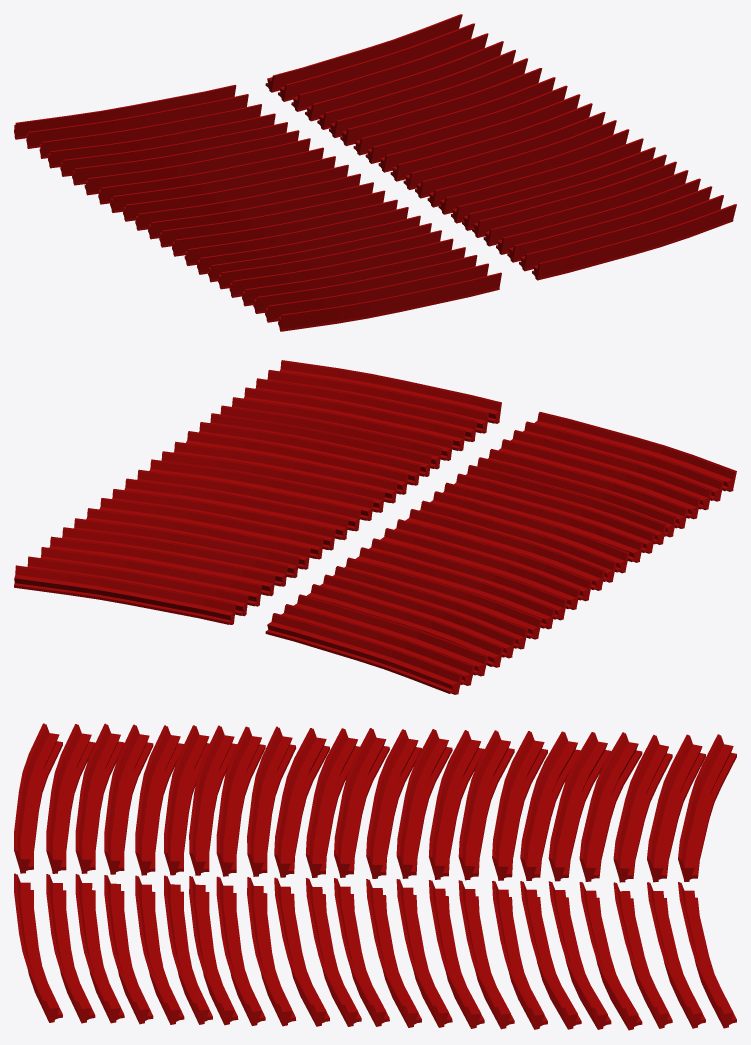
File: better_chairs.fbx
3 renders of one model, top to bottom at view 1: azimuth 30°, elevation 25°; view 2: azimuth 150°, elevation 25°; view 3: azimuth 270°, elevation 25°, orthographic. The views are drawn at different scales.
Visible parts, largest first — view 1: chair_profile_22 (×2), chair_profile_23 (×2), chair_profile_6 (×2), chair_profile_2 (×2), chair_profile_21 (×2), chair_profile_12 (×2), chair_profile_24 (×2), chair_profile_9 (×2), chair_profile_5 (×2), chair_profile_14 (×2), chair_profile_8 (×2), chair_profile_10 (×2) (+11 smaller); view 2: chair_profile_24 (×2), chair_profile_3 (×2), chair_profile_7 (×2), chair_profile_11 (×2), chair_profile_9 (×2), chair_profile_22 (×2), chair_profile_19 (×2), chair_profile_2 (×2), chair_profile_14 (×2), chair_profile_13 (×2), chair_profile_4 (×2), chair_profile_6 (×2) (+11 smaller); view 3: chair_profile_3 (×2), chair_profile_4 (×2), chair_profile_5 (×2), chair_profile_9 (×2), chair_profile_7 (×2), chair_profile_11 (×2), chair_profile_6 (×2), chair_profile_13 (×2), chair_profile_8 (×2), chair_profile_10 (×2), chair_profile_19 (×2), chair_profile_15 (×2) (+11 smaller).
Boxes of the visible parts, <box> form: chair_profile_22 (×2): <box>278,204,736,331</box>; chair_profile_23 (×2): <box>26,23,474,148</box>; chair_profile_6 (×2): <box>84,68,542,195</box>; chair_profile_2 (×2): <box>39,33,488,158</box>; chair_profile_21 (×2): <box>265,195,723,322</box>; chair_profile_12 (×2): <box>159,120,616,247</box>; chair_profile_24 (×2): <box>14,14,462,139</box>; chair_profile_9 (×2): <box>123,94,580,221</box>; chair_profile_5 (×2): <box>72,58,527,185</box>; chair_profile_14 (×2): <box>184,138,643,265</box>; chair_profile_8 (×2): <box>110,85,567,212</box>; chair_profile_10 (×2): <box>135,103,592,230</box>; chair_profile_24 (×2): <box>14,565,462,694</box>; chair_profile_3 (×2): <box>49,536,503,667</box>; chair_profile_7 (×2): <box>99,498,555,629</box>; chair_profile_11 (×2): <box>149,459,605,590</box>; chair_profile_9 (×2): <box>124,478,580,609</box>; chair_profile_22 (×2): <box>280,360,736,491</box>; chair_profile_19 (×2): <box>243,387,700,519</box>; chair_profile_2 (×2): <box>40,547,488,676</box>; chair_profile_14 (×2): <box>186,431,643,562</box>; chair_profile_13 (×2): <box>173,441,629,573</box>; chair_profile_4 (×2): <box>62,527,515,658</box>; chair_profile_6 (×2): <box>86,508,541,639</box>; chair_profile_3 (×2): <box>579,732,642,1030</box>; chair_profile_4 (×2): <box>548,732,611,1029</box>; chair_profile_5 (×2): <box>520,731,581,1029</box>; chair_profile_9 (×2): <box>396,729,452,1027</box>; chair_profile_7 (×2): <box>458,730,514,1029</box>; chair_profile_11 (×2): <box>334,728,389,1026</box>; chair_profile_6 (×2): <box>492,731,547,1029</box>; chair_profile_13 (×2): <box>274,728,329,1026</box>; chair_profile_8 (×2): <box>428,730,484,1028</box>; chair_profile_10 (×2): <box>366,729,421,1027</box>; chair_profile_19 (×2): <box>104,724,153,1024</box>; chair_profile_15 (×2): <box>216,726,265,1025</box>.
Bounding box in the file's own units: 1.36 × 0.0732 × 1.5.
